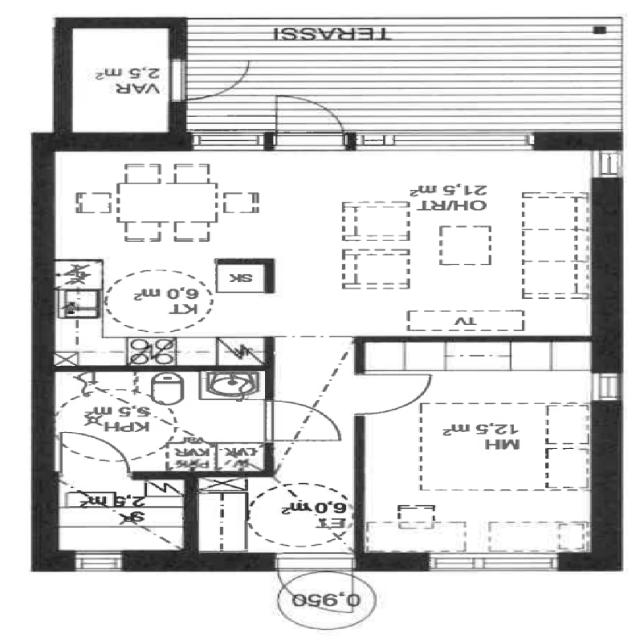door: (273, 569, 366, 614), (259, 395, 344, 442), (271, 90, 347, 142), (355, 370, 436, 417), (176, 56, 254, 102), (55, 430, 132, 469)
window: (355, 133, 540, 155), (419, 550, 567, 576), (184, 128, 272, 154), (68, 549, 132, 574), (587, 147, 628, 186), (586, 369, 628, 407), (160, 56, 190, 105)
zone: (44, 143, 354, 371), (360, 338, 600, 560), (352, 148, 598, 340), (50, 369, 271, 473), (64, 24, 174, 137), (52, 470, 191, 554)
